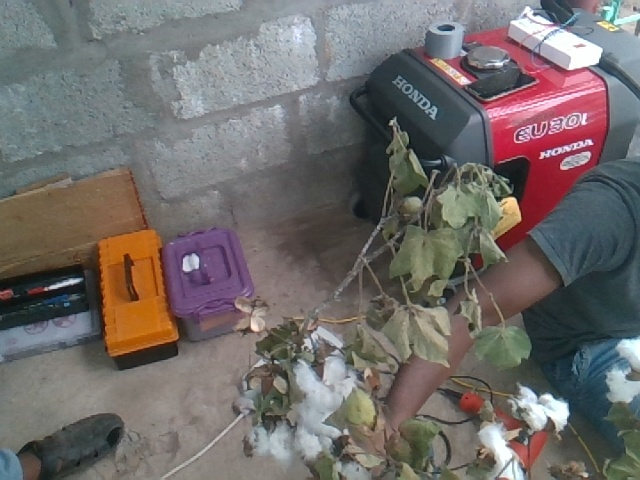cotton: (297, 352, 346, 429), (510, 382, 568, 430), (269, 423, 335, 462), (476, 421, 518, 480), (619, 340, 640, 372)
